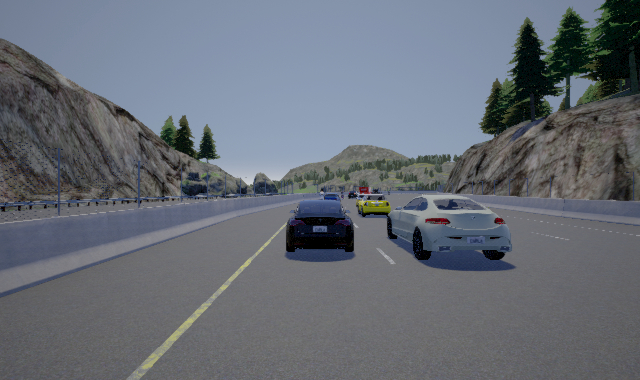vehicle: (386, 193, 513, 260), (284, 198, 354, 252), (357, 192, 391, 218)
